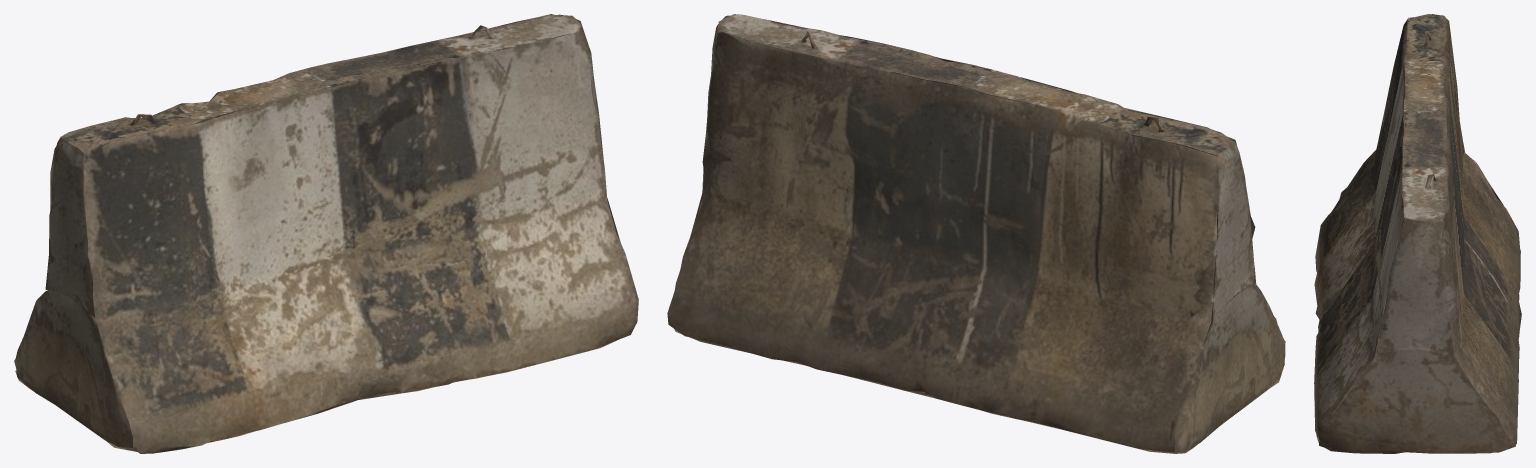
The model's file is concrete_road_barrier_1k.glb.lod.glb.
3 views of the same model, side by side, from view 1: azimuth 30°, elevation 25°; view 2: azimuth 150°, elevation 25°; view 3: azimuth 270°, elevation 25° (orthographic). The views are drawn at different scales.
Parts seen in each view (by area): view 1: concrete_road_barrier; view 2: concrete_road_barrier; view 3: concrete_road_barrier.
Part boxes in pixels (x1=…): concrete_road_barrier: x1=14, y1=14, x2=638, y2=453; concrete_road_barrier: x1=667, y1=14, x2=1285, y2=453; concrete_road_barrier: x1=1314, y1=14, x2=1521, y2=453.
Size of the model in its own units: 1.54 by 0.8291 by 0.6361.
Materials: 1 (1 with a texture image).
